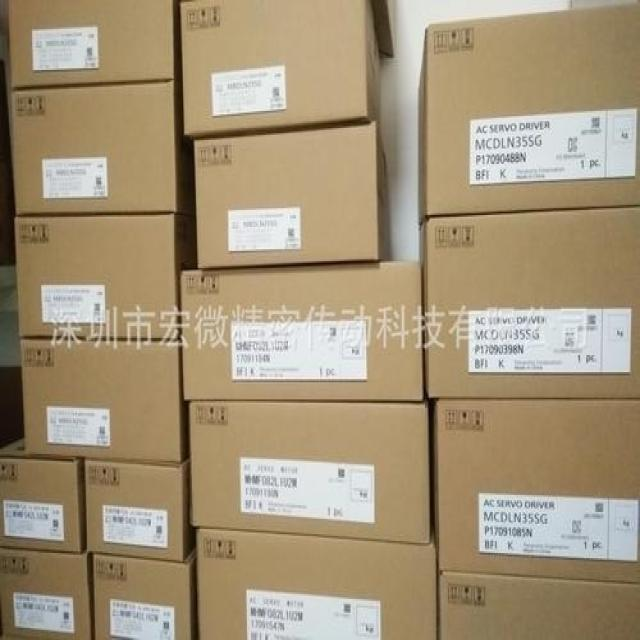box: (417, 2, 640, 229), (419, 207, 640, 399), (433, 398, 640, 582), (179, 261, 426, 403), (188, 403, 430, 546), (193, 121, 388, 270), (179, 0, 380, 138), (196, 529, 436, 640), (10, 80, 177, 215), (15, 213, 177, 338), (22, 338, 182, 463), (8, 0, 175, 87), (438, 572, 640, 640), (82, 459, 184, 563), (0, 437, 83, 551), (92, 553, 192, 640), (0, 550, 91, 640)
